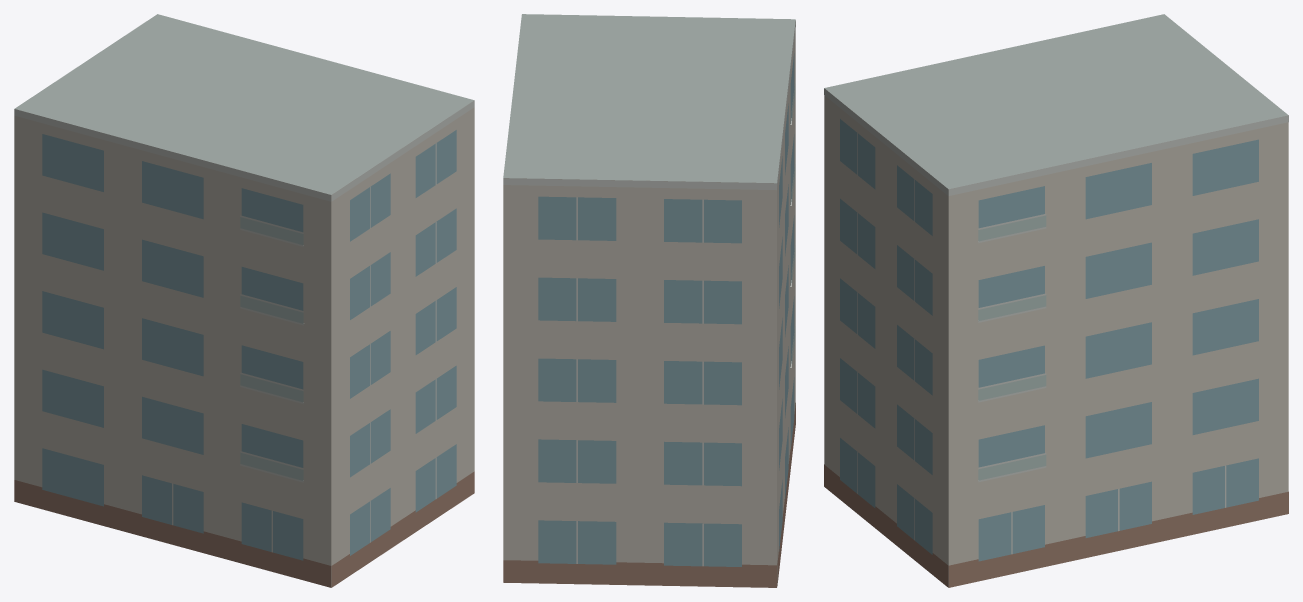
Rendered from survey-upis-32976951.glb.
3 renders of one model, left to right at view 1: azimuth 30°, elevation 25°; view 2: azimuth 150°, elevation 25°; view 3: azimuth 270°, elevation 25°, orthographic. The views are drawn at different scales.
Parts seen in each view (by area): view 1: survey-upis-32976951.tmp; view 2: survey-upis-32976951.tmp; view 3: survey-upis-32976951.tmp.
Boxes of the visible parts, left/top/right/bottom form: survey-upis-32976951.tmp: left=14, top=14, right=474, bottom=587; survey-upis-32976951.tmp: left=503, top=14, right=795, bottom=587; survey-upis-32976951.tmp: left=824, top=14, right=1288, bottom=587.
Size of the model in its own units: 13.31 by 14.1 by 14.91.
